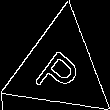P_NE: (31, 37, 87, 99)
